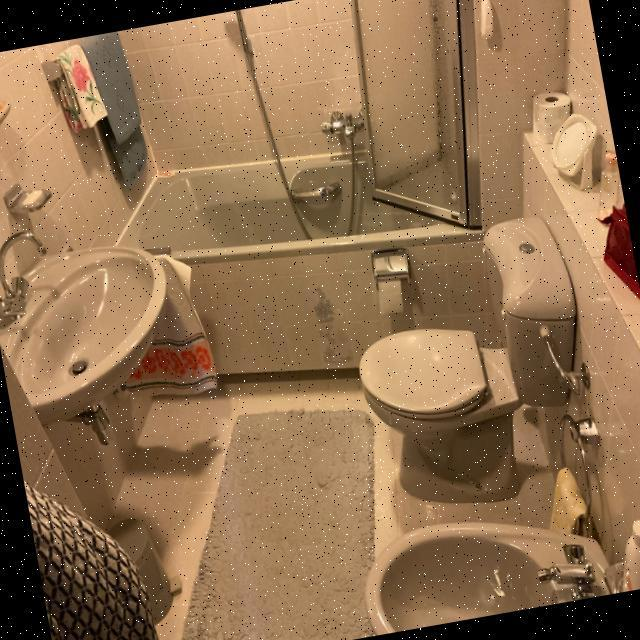bath: (77, 0, 529, 345)
toilet: (334, 206, 606, 516), (351, 491, 619, 636)
wastafel: (0, 202, 193, 461)
